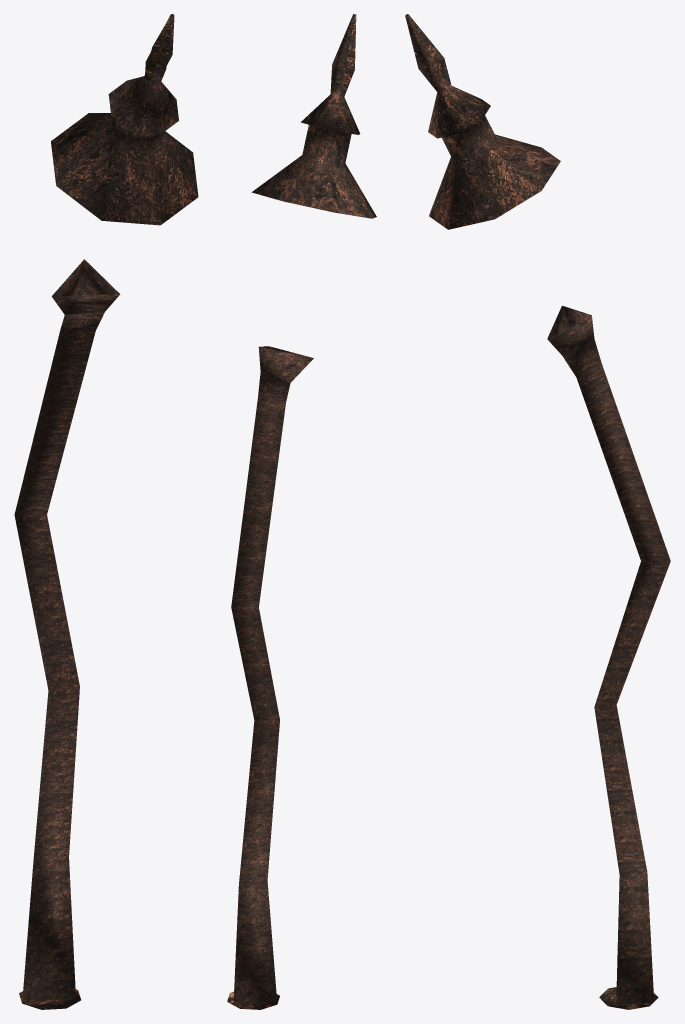
The model's file is lamp_LOD2.fbx.
3 renders of one model, left to right at view 1: azimuth 30°, elevation 25°; view 2: azimuth 150°, elevation 25°; view 3: azimuth 270°, elevation 25°, orthographic. The views are drawn at different scales.
Parts seen in each view (by area): view 1: lamp_LOD2; view 2: lamp_LOD2; view 3: lamp_LOD2.
Boxes of the visible parts, x1,y1,x2,y2 form: lamp_LOD2: [14, 14, 198, 1009]; lamp_LOD2: [227, 14, 376, 1009]; lamp_LOD2: [405, 14, 670, 1009].
Bounding box in the file's own units: 0.3486 × 2.6 × 0.6368.
